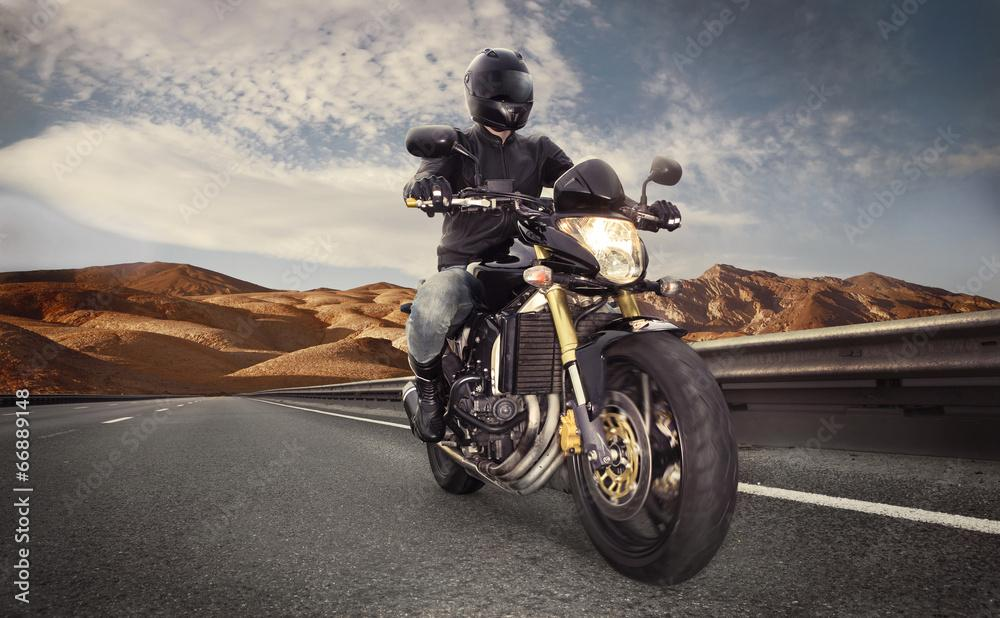helmet: (462, 47, 535, 133)
